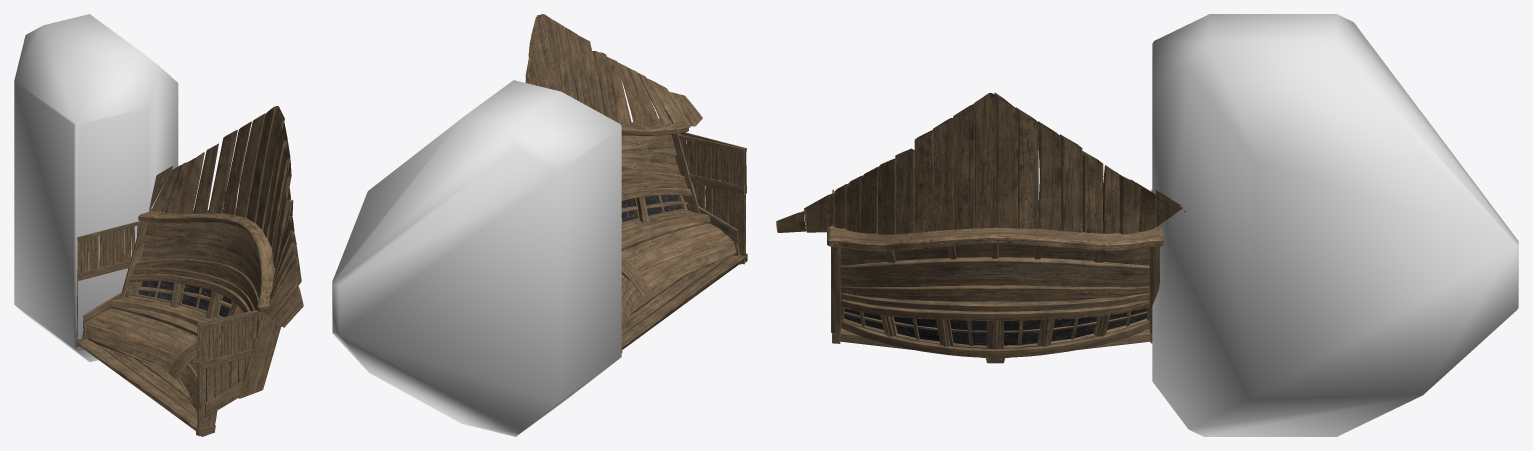
Rendered from SM_Roof_ShipPart.fbx.
3 renders of one model, left to right at view 1: azimuth 30°, elevation 25°; view 2: azimuth 150°, elevation 25°; view 3: azimuth 270°, elevation 25°, orthographic. The views are drawn at different scales.
Parts seen in each view (by area): view 1: SM_Roof_ShipPart, SM_Roof_ShipPart_ConvexHulls; view 2: SM_Roof_ShipPart_ConvexHulls, SM_Roof_ShipPart; view 3: SM_Roof_ShipPart_ConvexHulls, SM_Roof_ShipPart.
Part boxes in pixels (x1=…): SM_Roof_ShipPart: x1=76, y1=106, x2=303, y2=436; SM_Roof_ShipPart_ConvexHulls: x1=14, y1=14, x2=178, y2=361; SM_Roof_ShipPart_ConvexHulls: x1=332, y1=80, x2=621, y2=436; SM_Roof_ShipPart: x1=525, y1=14, x2=747, y2=352; SM_Roof_ShipPart_ConvexHulls: x1=1152, y1=14, x2=1518, y2=436; SM_Roof_ShipPart: x1=776, y1=92, x2=1185, y2=363.
Bounding box in the file's own units: 6.13 × 12.18 × 20.92.
